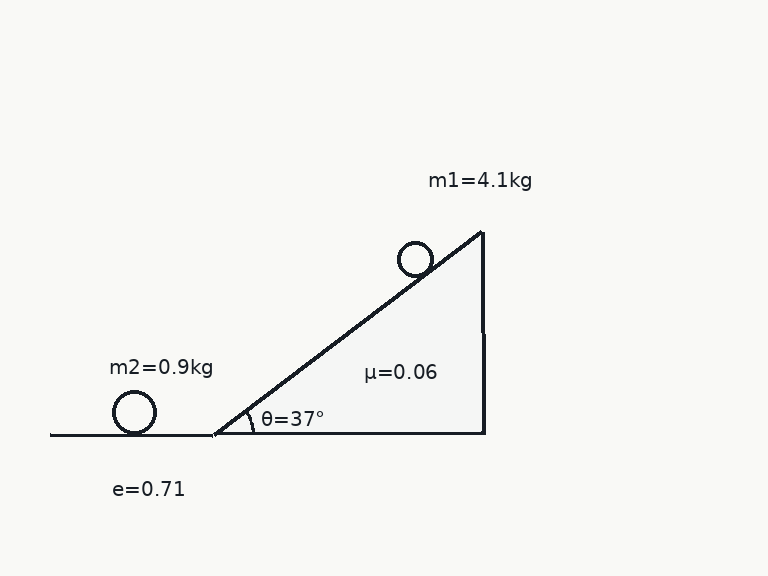ball: (110, 388, 158, 436), (395, 239, 435, 279)
ramp: (211, 230, 483, 436)
